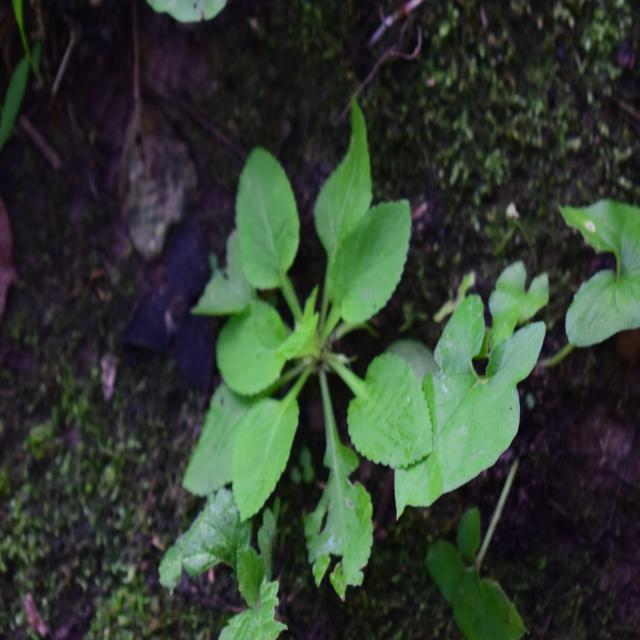Viola: (207, 126, 422, 534)
